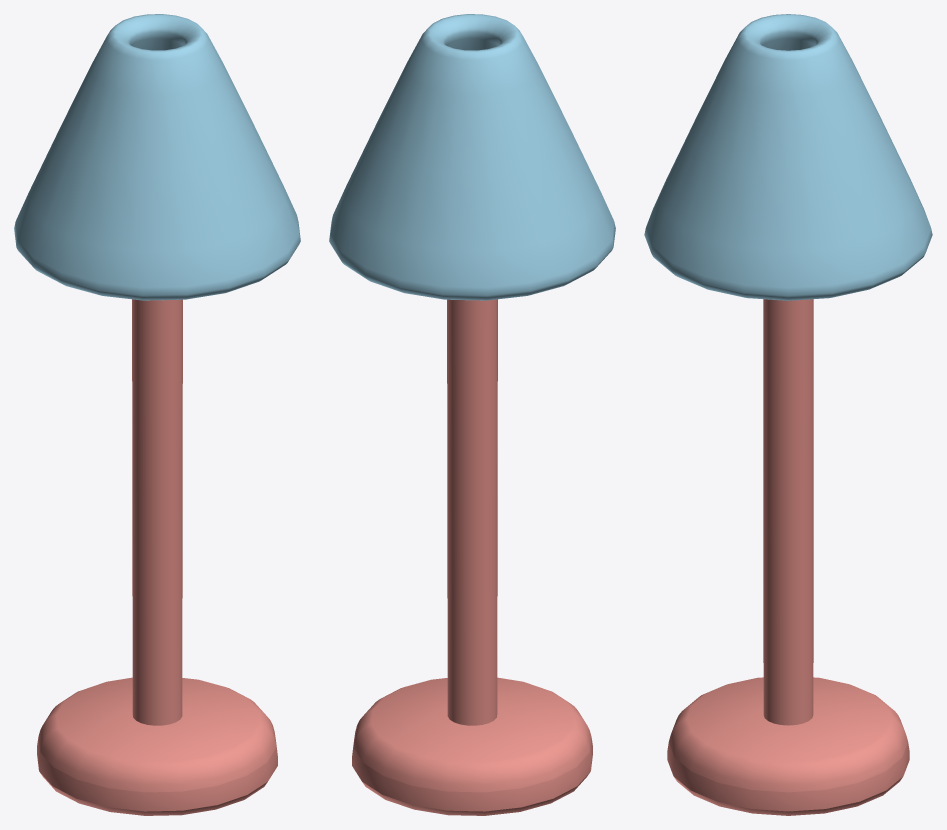
Rendered from Lampara.fbx.
3 views of the same model, side by side, from view 1: azimuth 30°, elevation 25°; view 2: azimuth 150°, elevation 25°; view 3: azimuth 270°, elevation 25° (orthographic).
Visible parts, largest first — view 1: Lampara; view 2: Lampara; view 3: Lampara.
Part boxes in pixels (x1,y1,x2,y2): Lampara: (14, 14, 300, 815); Lampara: (329, 14, 615, 815); Lampara: (644, 14, 932, 815).
Bounding box in the file's own units: 1.11 × 1.11 × 3.14.
